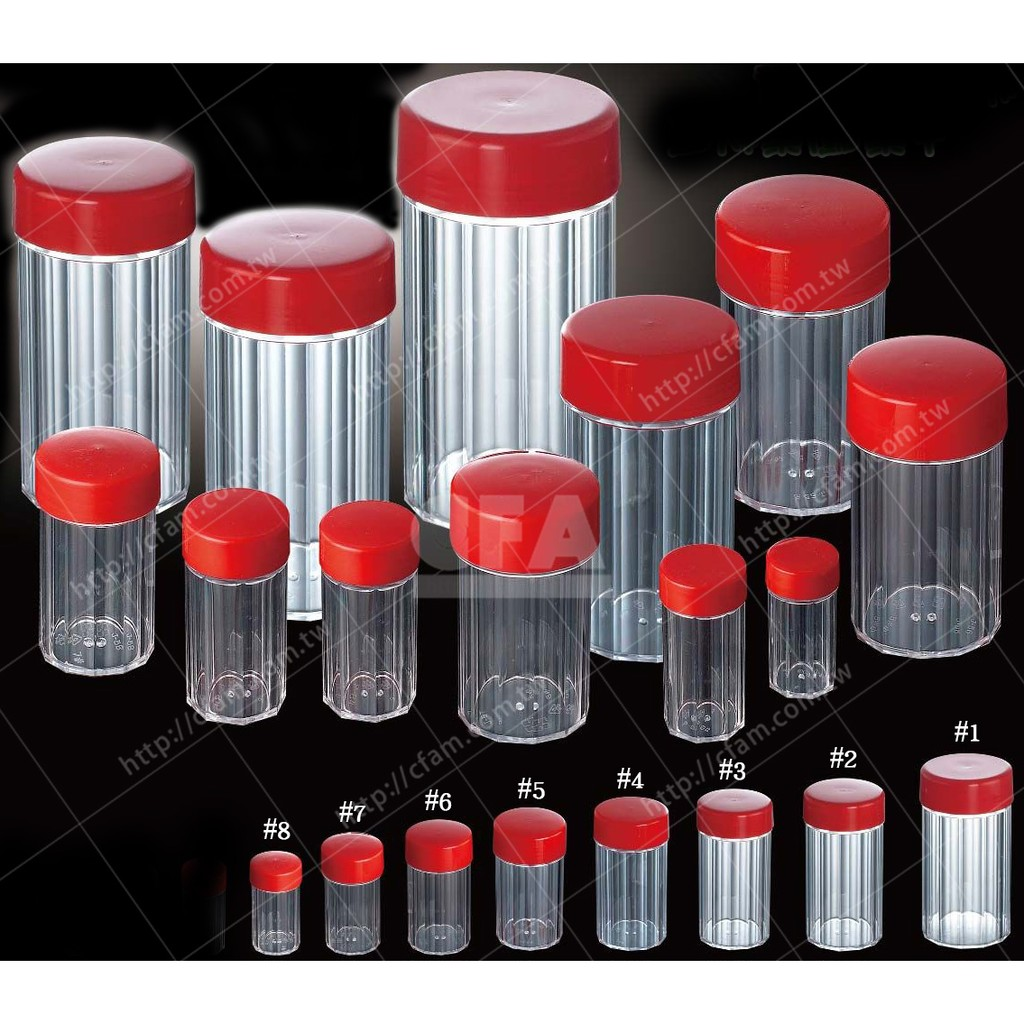medicinejar: (387, 67, 628, 544), (201, 210, 411, 627), (12, 139, 209, 506), (560, 298, 743, 674), (716, 167, 890, 534), (841, 327, 1019, 661), (445, 454, 609, 756), (36, 429, 192, 700), (174, 484, 311, 729), (318, 491, 429, 735), (663, 539, 753, 747), (923, 749, 1014, 952), (697, 779, 779, 956), (799, 773, 879, 952), (768, 532, 845, 698), (404, 815, 482, 967), (594, 795, 670, 951), (506, 806, 568, 961), (318, 832, 387, 954), (251, 845, 304, 961)
